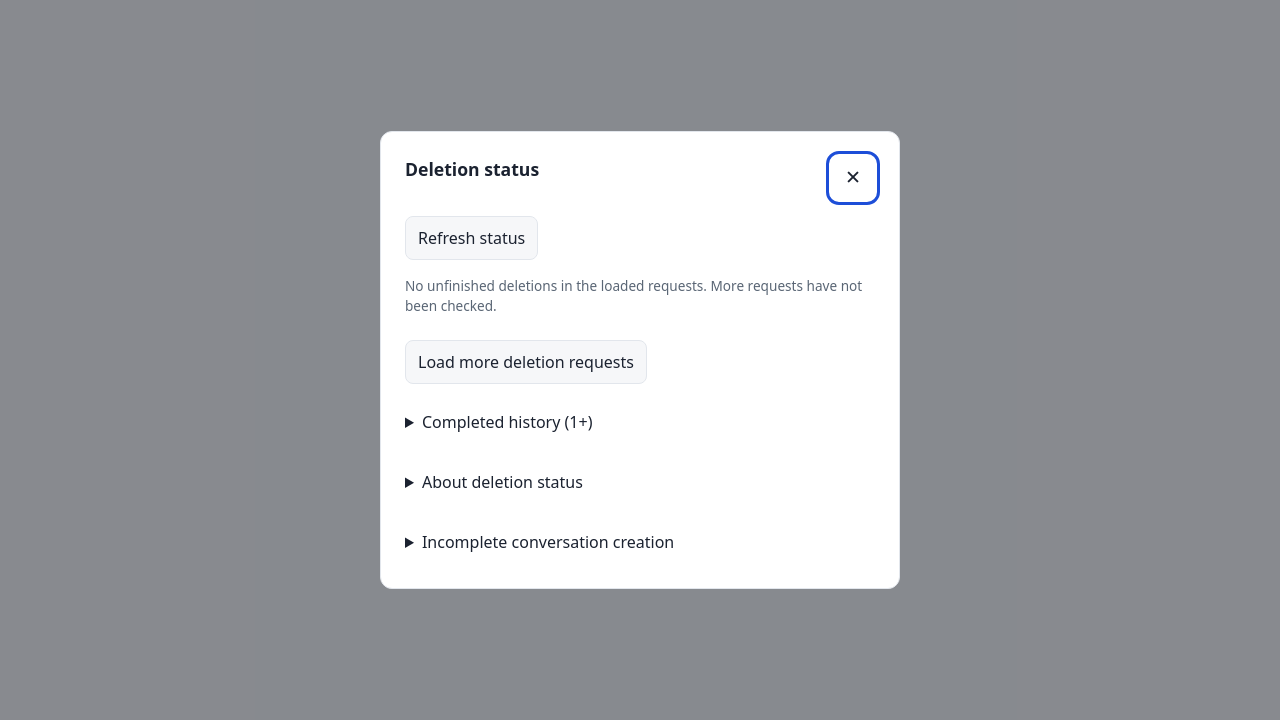
it: owner-resumed conversation deletion › does not claim an empty result when a completed-only page fails to continue
Click the button "Load more deletion requests" at (526, 362), box [405, 340, 647, 384]
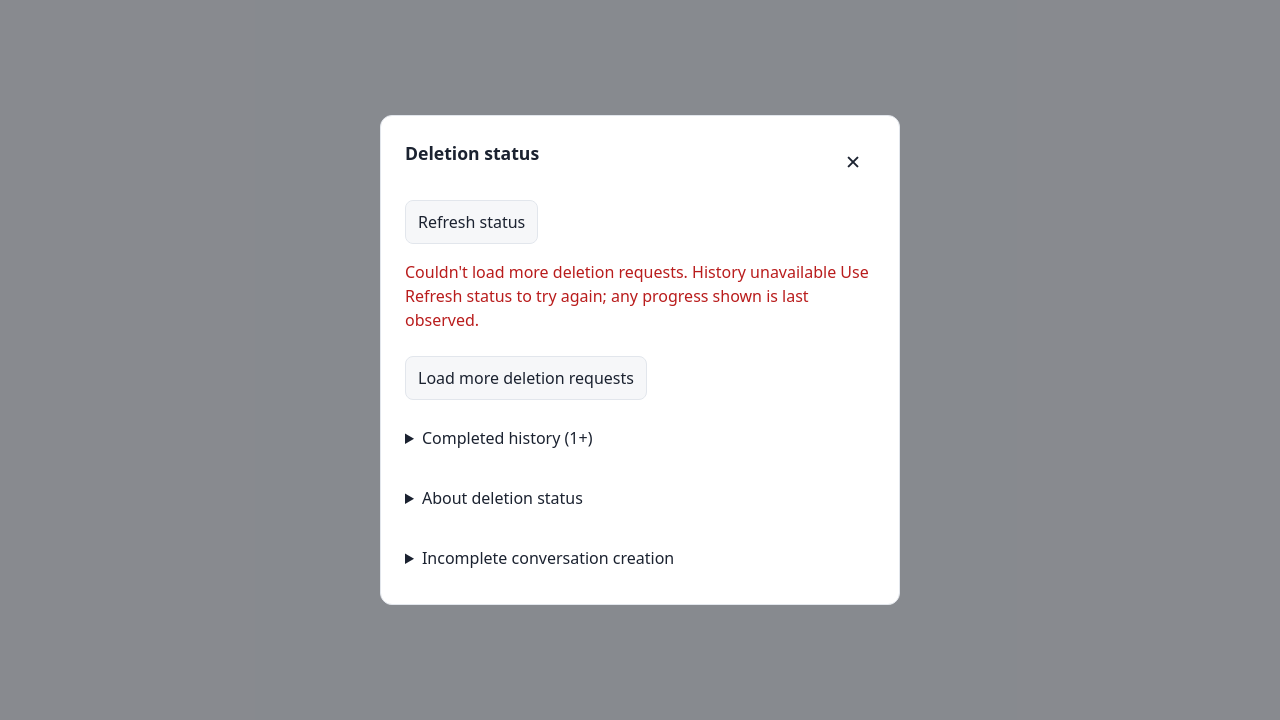
Check: the button "Load more deletion requests" is enabled, box [405, 356, 647, 400]
Check: the message shows "History unavailable", box [405, 261, 869, 331]
